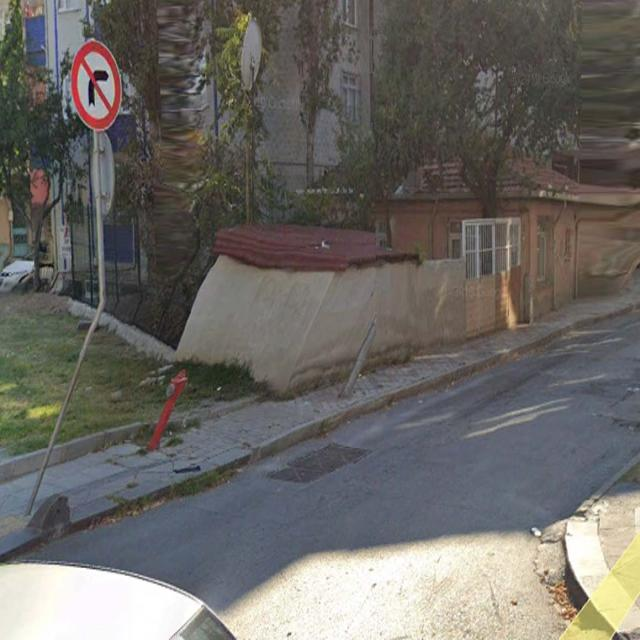sagadonulmez: (70, 41, 123, 133)
